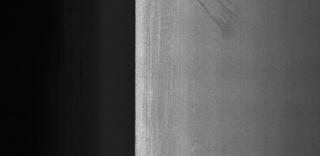water spot: (192, 0, 250, 40)
